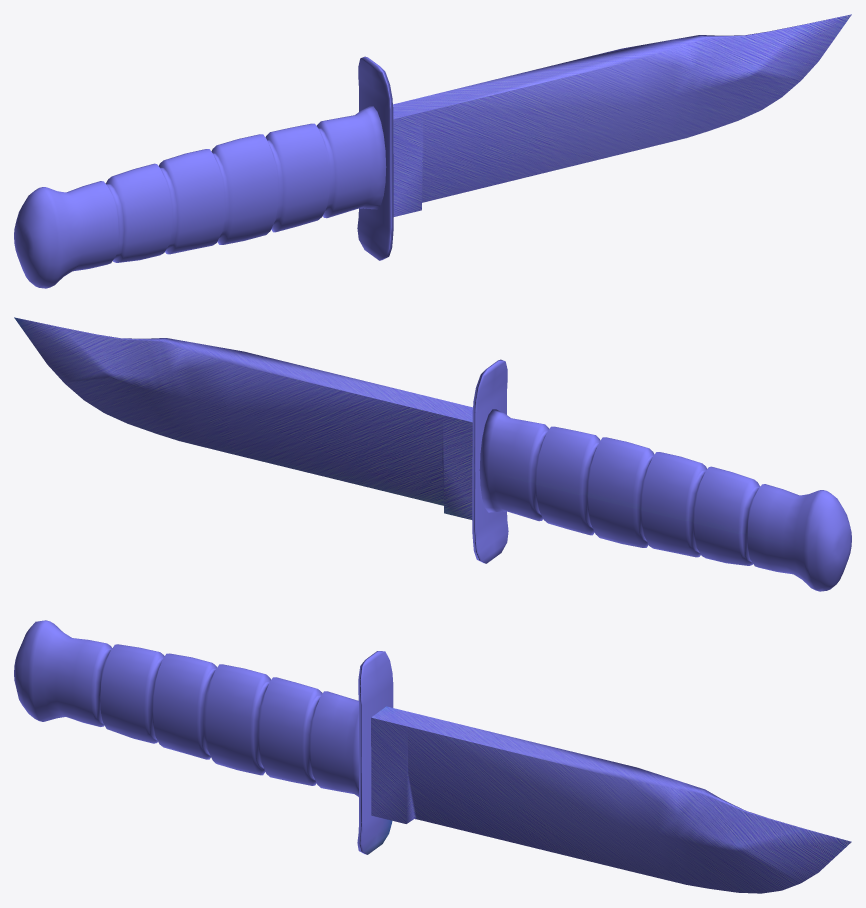
Rendered from knife.fbx.
3 views of the same model, one above another, from view 1: azimuth 30°, elevation 25°; view 2: azimuth 150°, elevation 25°; view 3: azimuth 330°, elevation 25° (orthographic).
Parts seen in each view (by area): view 1: Bayonet:polySurface7; view 2: Bayonet:polySurface7; view 3: Bayonet:polySurface7.
Boxes of the visible parts, x1,y1,x2,y2 form: Bayonet:polySurface7: [14, 14, 851, 288]; Bayonet:polySurface7: [14, 317, 851, 591]; Bayonet:polySurface7: [14, 620, 851, 893].
Bounding box in the file's own units: 16.36 × 3.64 × 1.02.
Materials: 1 (1 with a texture image).
